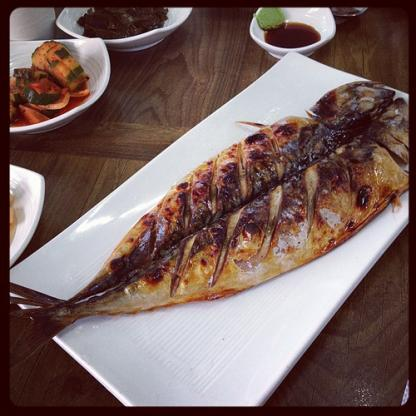Peixe: (0, 70, 413, 358)
